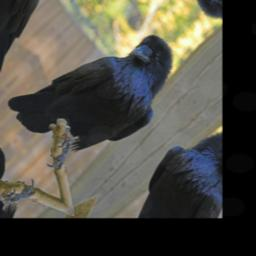Crow: (2, 0, 195, 198)
